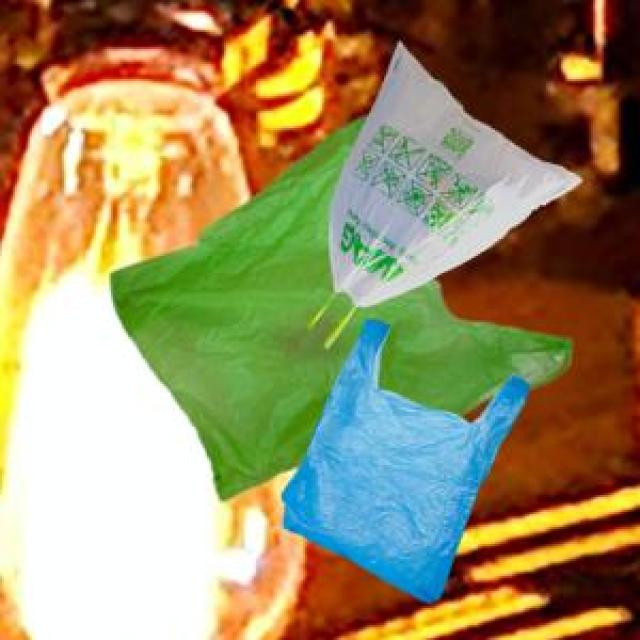plastic: (89, 27, 599, 606)
